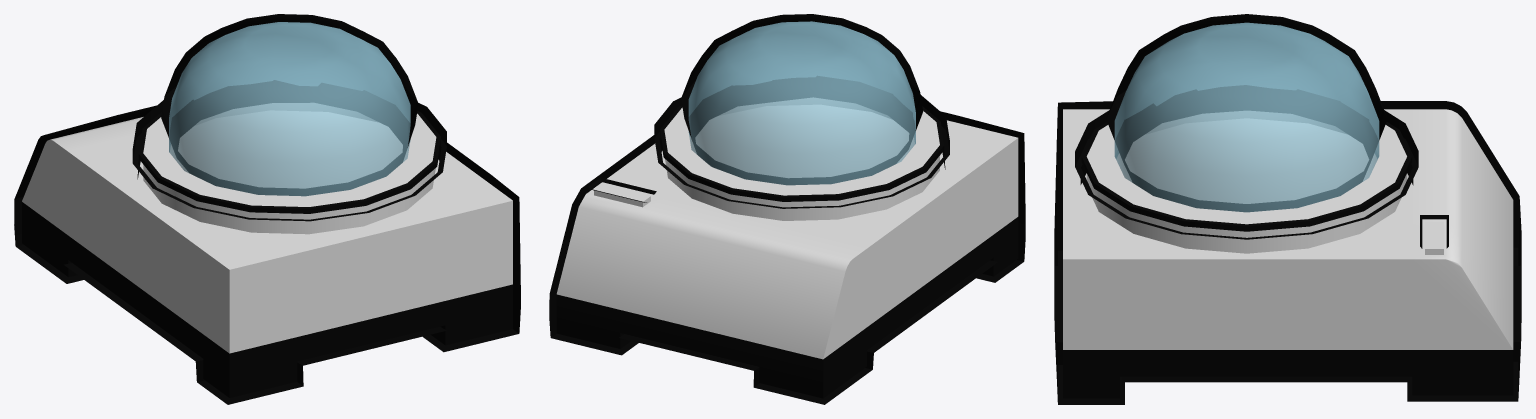
The model's file is impresora 4D 1.fbx.
3 renders of one model, left to right at view 1: azimuth 30°, elevation 25°; view 2: azimuth 150°, elevation 25°; view 3: azimuth 270°, elevation 25°, orthographic. The views are drawn at different scales.
Visible parts, largest first — view 1: impresora 4d; view 2: impresora 4d; view 3: impresora 4d.
Boxes of the visible parts, <box> form: impresora 4d: <box>14,14,520,404</box>; impresora 4d: <box>549,14,1025,404</box>; impresora 4d: <box>1054,14,1521,404</box>.
Size of the model in its own units: 37.8 by 32.52 by 47.45.
